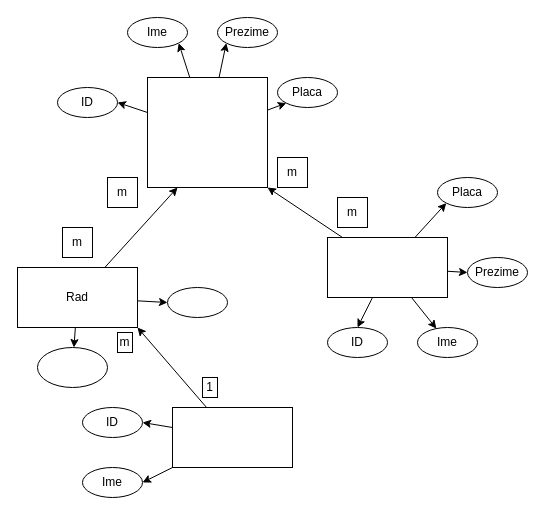
This 545x515 diagram has some shape labels left out. The centre of each missing label's shape, as x and y in pixels:
Odjel: point 232,437
OdjelID: point 197,302
Radnici: point 207,132
RadniciID: point 72,367
Voditelj: point 387,267
